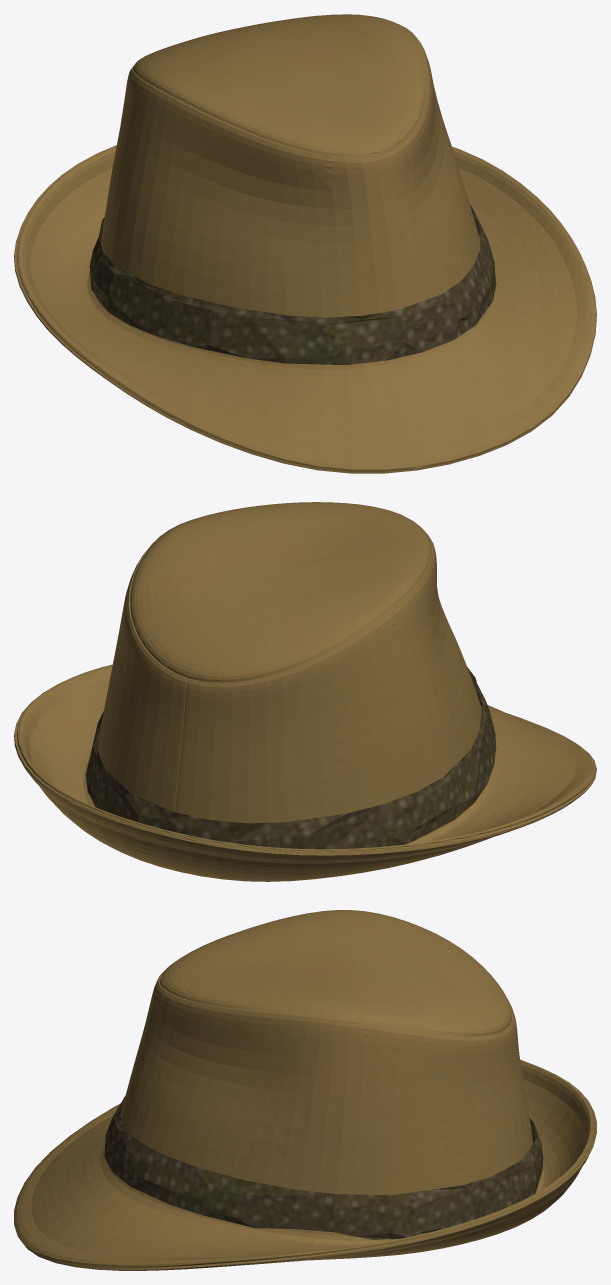
File: mhw_elvs_male_trilby_hat.glb
3 renders of one model, top to bottom at view 1: azimuth 30°, elevation 25°; view 2: azimuth 150°, elevation 25°; view 3: azimuth 270°, elevation 25°, orthographic. The views are drawn at different scales.
Parts seen in each view (by area): view 1: mhw_elvs_male_trilby_hat; view 2: mhw_elvs_male_trilby_hat; view 3: mhw_elvs_male_trilby_hat.
Boxes of the visible parts, <box> form: mhw_elvs_male_trilby_hat: <box>14,14,596,473</box>; mhw_elvs_male_trilby_hat: <box>14,502,596,881</box>; mhw_elvs_male_trilby_hat: <box>14,910,596,1270</box>.
Size of the model in its own units: 0.2875 by 0.1585 by 0.3164.
1 material, 1 textured.
